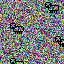sheep: (44, 1, 59, 13), (10, 22, 24, 34)
